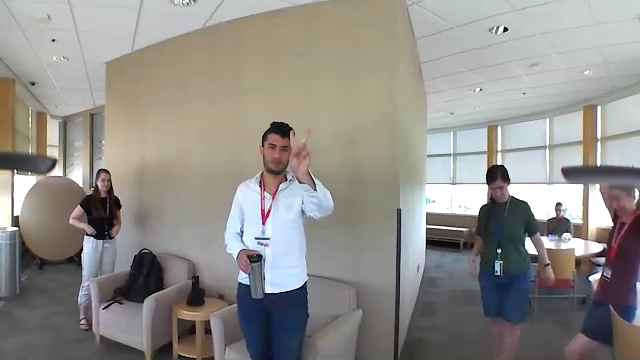peace: (281, 121, 319, 184)
